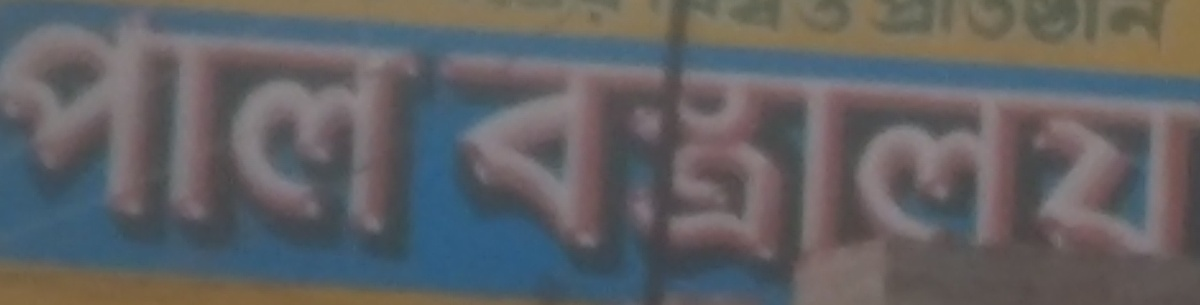text: (1, 6, 16, 259), (17, 6, 32, 259), (33, 6, 48, 259), (49, 6, 64, 259), (65, 6, 80, 259), (81, 6, 96, 259), (97, 6, 112, 259), (113, 6, 128, 259), (129, 6, 144, 259), (145, 6, 160, 259), (161, 6, 176, 259), (177, 6, 192, 259), (193, 6, 208, 259), (209, 6, 224, 259), (225, 6, 240, 259), (241, 6, 256, 259), (257, 6, 272, 259), (273, 6, 288, 259), (289, 6, 304, 259), (305, 6, 320, 259), (321, 6, 336, 259), (337, 6, 352, 259), (353, 6, 368, 259), (369, 6, 384, 259), (385, 6, 400, 259), (401, 6, 416, 259), (417, 6, 432, 259), (449, 46, 464, 274), (465, 46, 480, 274), (481, 46, 496, 274), (497, 46, 512, 274), (513, 46, 528, 274), (529, 46, 544, 274), (545, 46, 560, 274), (561, 46, 576, 274), (577, 46, 592, 274), (593, 46, 608, 274), (609, 46, 624, 274), (625, 46, 640, 274), (641, 46, 656, 274), (657, 46, 672, 274), (673, 46, 688, 274), (689, 46, 704, 274), (705, 46, 720, 274), (721, 46, 736, 274), (737, 46, 752, 274), (753, 46, 768, 274), (769, 46, 784, 274), (785, 46, 800, 274), (801, 46, 816, 274), (817, 46, 832, 274), (833, 46, 848, 274), (849, 46, 864, 274), (865, 46, 880, 274), (881, 46, 896, 274), (897, 46, 912, 274), (913, 46, 928, 274), (929, 46, 944, 274), (945, 46, 960, 274), (961, 46, 976, 274), (977, 46, 992, 274), (993, 46, 1008, 274), (1009, 46, 1024, 274), (1025, 46, 1040, 274), (1041, 46, 1056, 274), (1057, 46, 1072, 274), (1073, 46, 1088, 274), (1089, 46, 1104, 274), (1105, 46, 1120, 274), (1121, 46, 1136, 274), (1137, 46, 1152, 274), (1153, 46, 1168, 274), (1169, 46, 1184, 274), (1185, 46, 1199, 274), (440, 46, 448, 274), (865, 1, 880, 52), (881, 1, 896, 52), (897, 1, 912, 52), (913, 1, 928, 52), (929, 1, 944, 52), (945, 1, 960, 52), (961, 1, 976, 52), (977, 1, 992, 52), (993, 1, 1008, 52), (1009, 1, 1024, 52), (1025, 1, 1040, 52), (1041, 1, 1056, 52), (1057, 1, 1072, 52), (1073, 1, 1088, 52), (1089, 1, 1104, 52), (1105, 1, 1120, 52), (1121, 1, 1136, 52), (1137, 1, 1152, 52), (1153, 1, 1168, 52), (657, 1, 672, 46), (673, 1, 688, 46), (689, 1, 704, 46), (705, 1, 720, 46), (721, 1, 736, 46), (737, 1, 752, 46), (753, 1, 768, 46), (769, 1, 784, 46), (785, 1, 800, 46), (801, 1, 816, 46), (817, 1, 832, 46), (833, 1, 848, 46), (642, 1, 656, 46), (497, 1, 512, 27), (513, 1, 528, 27), (529, 1, 544, 27), (545, 1, 560, 27), (561, 1, 576, 27), (577, 1, 592, 27), (593, 1, 608, 27), (609, 1, 624, 27), (1169, 1, 1176, 52), (849, 1, 855, 46), (487, 1, 496, 27), (625, 1, 628, 27)
